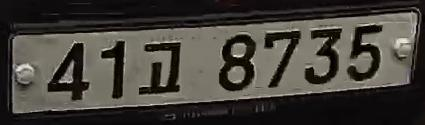1: (95, 37, 135, 100)
3: (303, 26, 345, 88)
4: (44, 39, 93, 104)
5: (346, 20, 385, 83)
7: (259, 27, 303, 90)
8: (211, 30, 261, 95)
고: (136, 40, 188, 98)
